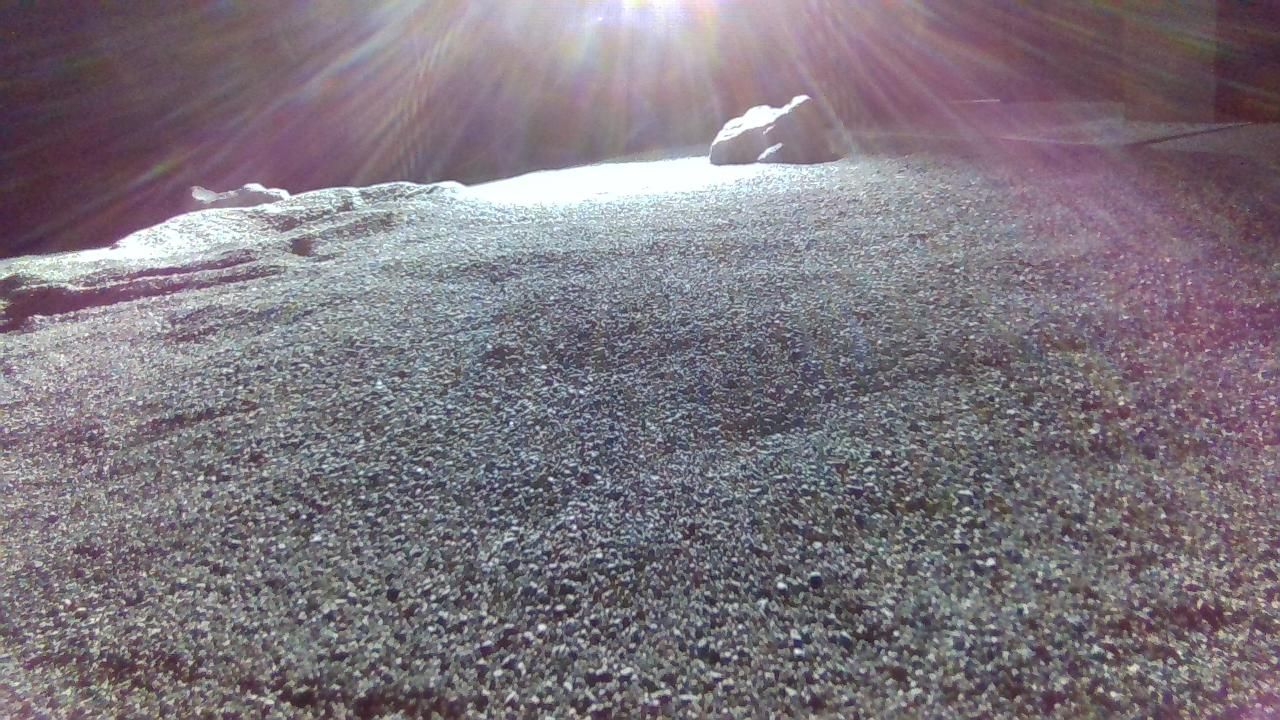rock: (710, 93, 849, 164)
